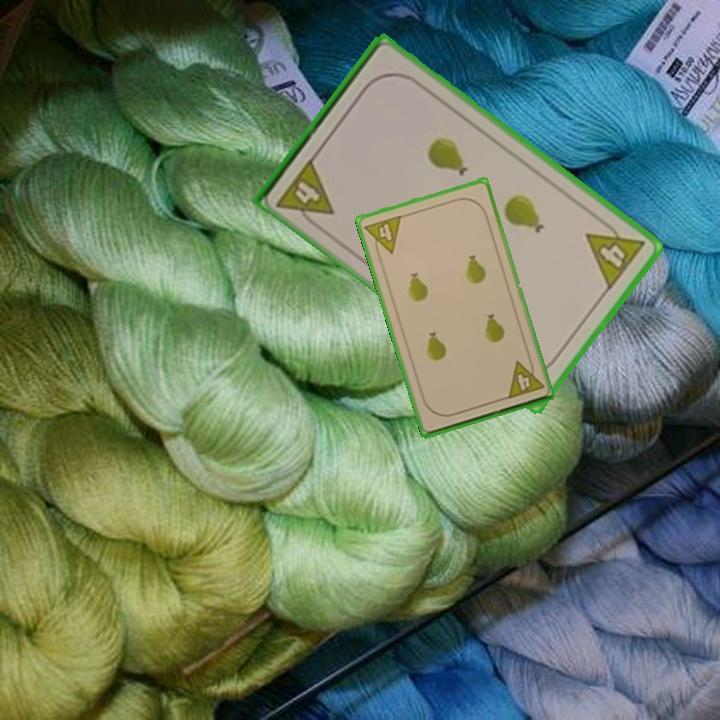4p: (582, 213, 648, 293), (273, 154, 337, 232), (503, 355, 547, 402), (361, 212, 404, 260)
